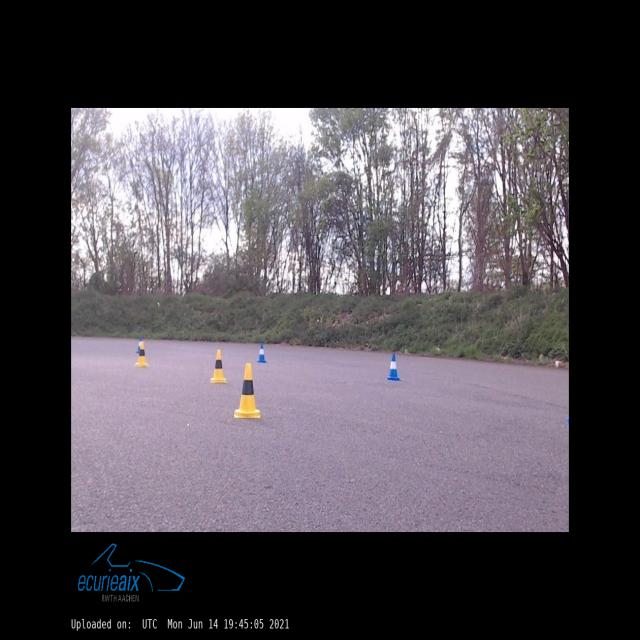blue_cone: (387, 354, 399, 380), (258, 344, 266, 362), (137, 338, 141, 353)
yellow_cone: (235, 363, 260, 418), (210, 350, 227, 382), (136, 342, 147, 366)
